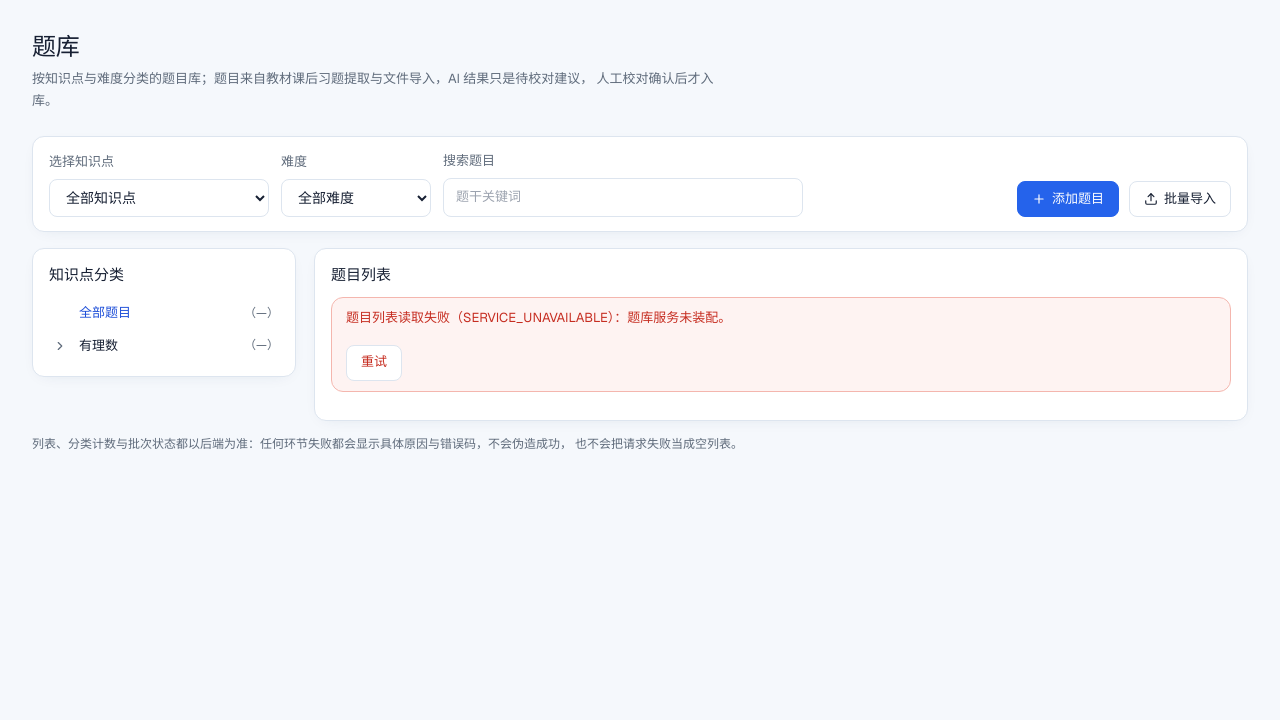
Test: 题库首页：题目列表 › 读取失败显示错误与重试，不显示空态；重试成功后恢复真实数据
Expected: the message shows "题目列表读取失败", [346, 309, 450, 326]
Expected: the message shows "SERVICE_UNAVAILABLE", [463, 309, 608, 326]
Click the button "重试". click: (374, 363)
box: [346, 345, 402, 381]
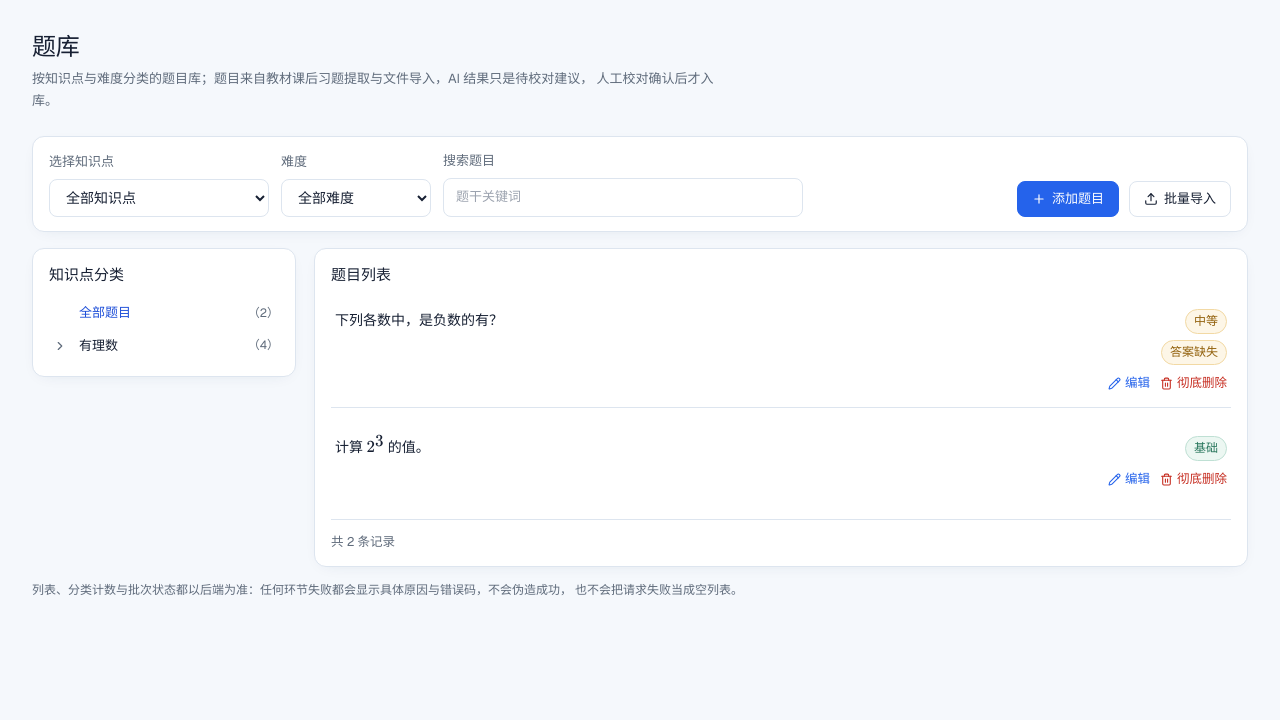
Expected: the text "下列各数中，是负数的有？" is shown, [335, 311, 503, 329]
